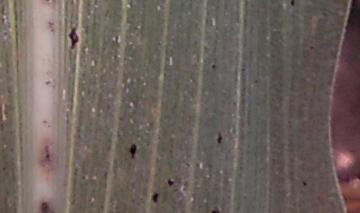tarspot: (66, 23, 81, 53), (127, 141, 139, 163), (214, 128, 226, 146), (149, 189, 161, 206), (166, 176, 177, 188), (43, 150, 53, 163), (209, 204, 223, 213), (299, 179, 310, 189), (210, 60, 218, 72), (308, 42, 317, 52), (288, 1, 298, 8)
